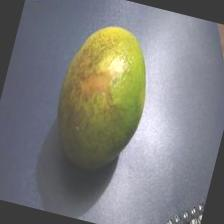Orange Rotten: (38, 9, 166, 186)
